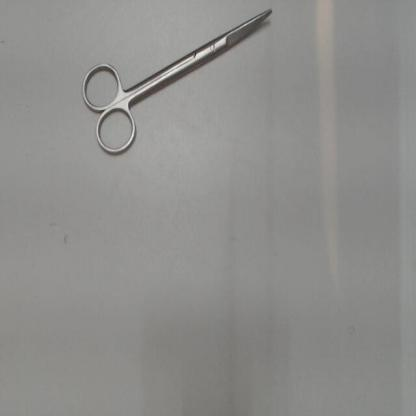Curved Mayo Scissors: (75, 4, 278, 166)
